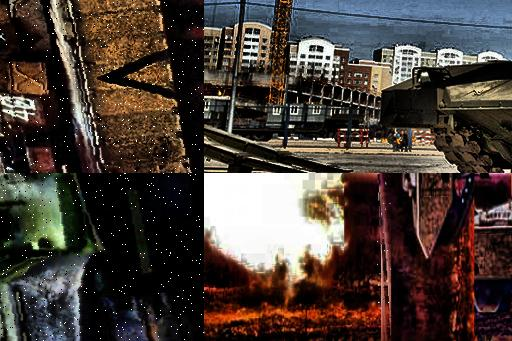tanks: (1, 1, 205, 174), (1, 174, 205, 341), (385, 66, 512, 174), (403, 174, 475, 255), (379, 174, 392, 317)
